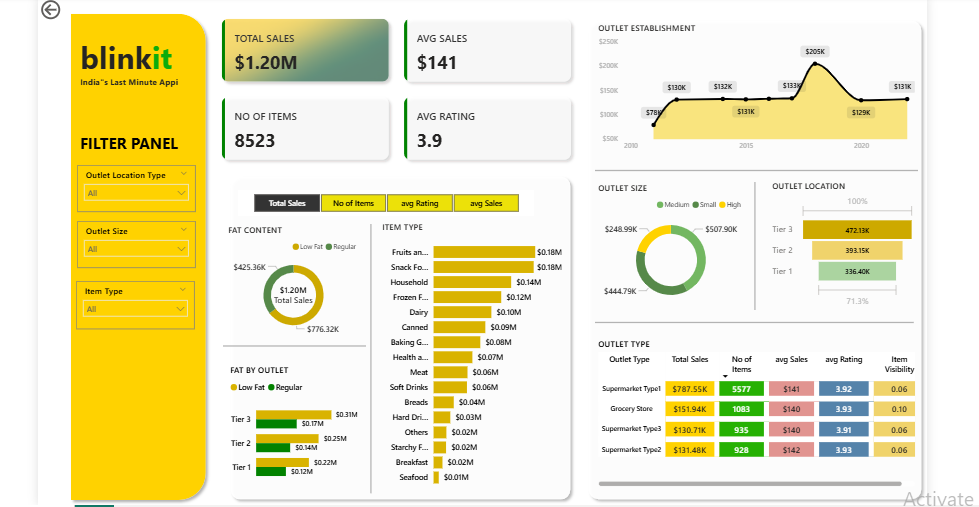

The dashboard page shown, as its layout file describes it:
{"tool":"powerbi","page":{"name":"Page 1","canvas":[1400,800],"ordinal":0},"visuals":[{"type":"shape","box":[42.4,16.6,230.6,783.9],"z":0},{"type":"textbox","box":[272.5,648.8,207.5,66.2],"z":1000},{"type":"textbox","box":[60.6,57,187.4,84.5],"z":2000},{"type":"textbox","box":[60.6,119.4,176.4,93.7],"z":3000},{"type":"cardVisual","fields":{"Data":["BlinkIT Grocery Data.Total Sales","BlinkIT Grocery Data.avg Sales","BlinkIT Grocery Data.No of Items","BlinkIT Grocery Data.avg Rating"]},"box":[272.4,17.3,585.8,256.7],"z":4000},{"type":"shape","box":[294.5,274,552.8,526],"z":5000},{"type":"slicer","fields":{"Values":["Metrics.Metrics"]},"box":[315,303.9,466.1,40.9],"z":6000},{"type":"donutChart","title":"FAT CONTENT","fields":{"Y":["BlinkIT Grocery Data.Total Sales"],"Category":["BlinkIT Grocery Data.Item Fat Content"]},"box":[294.5,357.5,215.7,179.5],"z":7000},{"type":"shape","box":[858.3,28.3,541.7,771.7],"z":8000},{"type":"cardVisual","fields":{"Data":["BlinkIT Grocery Data.Total Sales"]},"box":[351.2,434.6,102.4,58.3],"z":9000},{"type":"clusteredBarChart","title":"FAT BY OUTLET ","fields":{"Y":["BlinkIT Grocery Data.Total Sales"],"Category":["BlinkIT Grocery Data.Outlet Location Type"],"Series":["BlinkIT Grocery Data.Item Fat Content"]},"box":[297.6,578,211,198.4],"z":10000},{"type":"shape","box":[291.3,529.1,225.2,40.9],"z":11000},{"type":"shape","box":[500.8,357.5,47.2,423.6],"z":12000},{"type":"barChart","title":"ITEM TYPE ","fields":{"Y":["BlinkIT Grocery Data.Total Sales"],"Category":["BlinkIT Grocery Data.Item Type"]},"box":[537,352.8,292.9,428.3],"z":13000},{"type":"lineChart","title":"OUTLET ESTABLISHMENT","fields":{"Category":["BlinkIT Grocery Data.Outlet Establishment Year"],"Y":["BlinkIT Grocery Data.Total Sales"]},"box":[877.2,39.4,508.7,212.6],"z":14000},{"type":"shape","box":[877.2,207.9,508.7,130.7],"z":15000},{"type":"shape","box":[979.5,291.3,299.2,201.6],"z":16000},{"type":"donutChart","title":"OUTLET SIZE","fields":{"Y":["BlinkIT Grocery Data.Total Sales"],"Category":["BlinkIT Grocery Data.Outlet Size"]},"box":[877.2,291.3,239.4,201.6],"z":17000},{"type":"funnel","title":"OUTLET LOCATION","fields":{"Y":["Sum(BlinkIT Grocery Data.Sales)"],"Category":["BlinkIT Grocery Data.Outlet Location Type"]},"box":[1151.2,288.2,234.6,204.7],"z":18000},{"type":"shape","box":[877.2,447.2,502.4,130.7],"z":19000},{"type":"pivotTable","title":"OUTLET TYPE ","fields":{"Rows":["BlinkIT Grocery Data.Outlet Type"],"Values":["BlinkIT Grocery Data.Total Sales","BlinkIT Grocery Data.No of Items","BlinkIT Grocery Data.avg Sales","BlinkIT Grocery Data.avg Rating","Avg(BlinkIT Grocery Data.Item Visibility)"]},"box":[877.2,537,508.7,239.4],"z":20000},{"type":"actionButton","box":[0,0,100,40],"z":21000},{"type":"slicer","fields":{"Values":["BlinkIT Grocery Data.Outlet Location Type"]},"box":[61.4,264.6,187.4,74],"z":22000},{"type":"slicer","fields":{"Values":["BlinkIT Grocery Data.Outlet Size"]},"box":[61.4,352.8,187.4,74],"z":23000},{"type":"slicer","fields":{"Values":["BlinkIT Grocery Data.Item Type"]},"box":[59.8,447.2,187.4,75.6],"z":24000},{"type":"textbox","box":[61.4,207.9,176.4,44.1],"z":25000}]}

Visuals, with their boxes on the page's 1400x800 design canvas (x1, y1, x2, y2). These are canvas units, not pixel positions in the 979x507 screenshot, which may show the page scaled, cropped or inside an application window:
shape: <region>42, 17, 273, 800</region>
textbox: <region>272, 649, 480, 715</region>
textbox: <region>61, 57, 248, 142</region>
textbox: <region>61, 119, 237, 213</region>
cardVisual - BlinkIT Grocery Data.Total Sales x BlinkIT Grocery Data.avg Sales: <region>272, 17, 858, 274</region>
shape: <region>294, 274, 847, 800</region>
slicer - Metrics.Metrics: <region>315, 304, 781, 345</region>
"FAT CONTENT" donutChart: <region>294, 358, 510, 537</region>
shape: <region>858, 28, 1400, 800</region>
cardVisual - BlinkIT Grocery Data.Total Sales: <region>351, 435, 454, 493</region>
"FAT BY OUTLET " clusteredBarChart: <region>298, 578, 509, 776</region>
shape: <region>291, 529, 516, 570</region>
shape: <region>501, 358, 548, 781</region>
"ITEM TYPE " barChart: <region>537, 353, 830, 781</region>
"OUTLET ESTABLISHMENT" lineChart: <region>877, 39, 1386, 252</region>
shape: <region>877, 208, 1386, 339</region>
shape: <region>980, 291, 1279, 493</region>
"OUTLET SIZE" donutChart: <region>877, 291, 1117, 493</region>
"OUTLET LOCATION" funnel: <region>1151, 288, 1386, 493</region>
shape: <region>877, 447, 1380, 578</region>
"OUTLET TYPE " pivotTable: <region>877, 537, 1386, 776</region>
actionButton: <region>0, 0, 100, 40</region>
slicer - BlinkIT Grocery Data.Outlet Location Type: <region>61, 265, 249, 339</region>
slicer - BlinkIT Grocery Data.Outlet Size: <region>61, 353, 249, 427</region>
slicer - BlinkIT Grocery Data.Item Type: <region>60, 447, 247, 523</region>
textbox: <region>61, 208, 238, 252</region>
